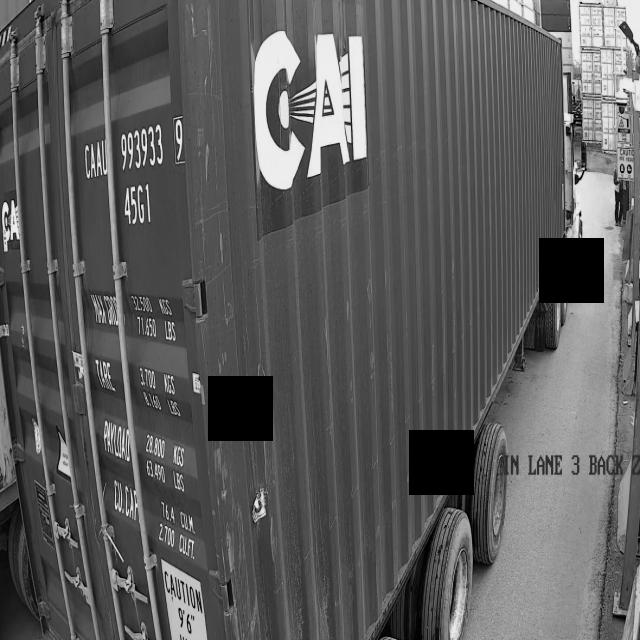container_company_logo: (240, 0, 405, 229)
container_number: (76, 93, 209, 640)
truck_with_container: (0, 0, 586, 640)
